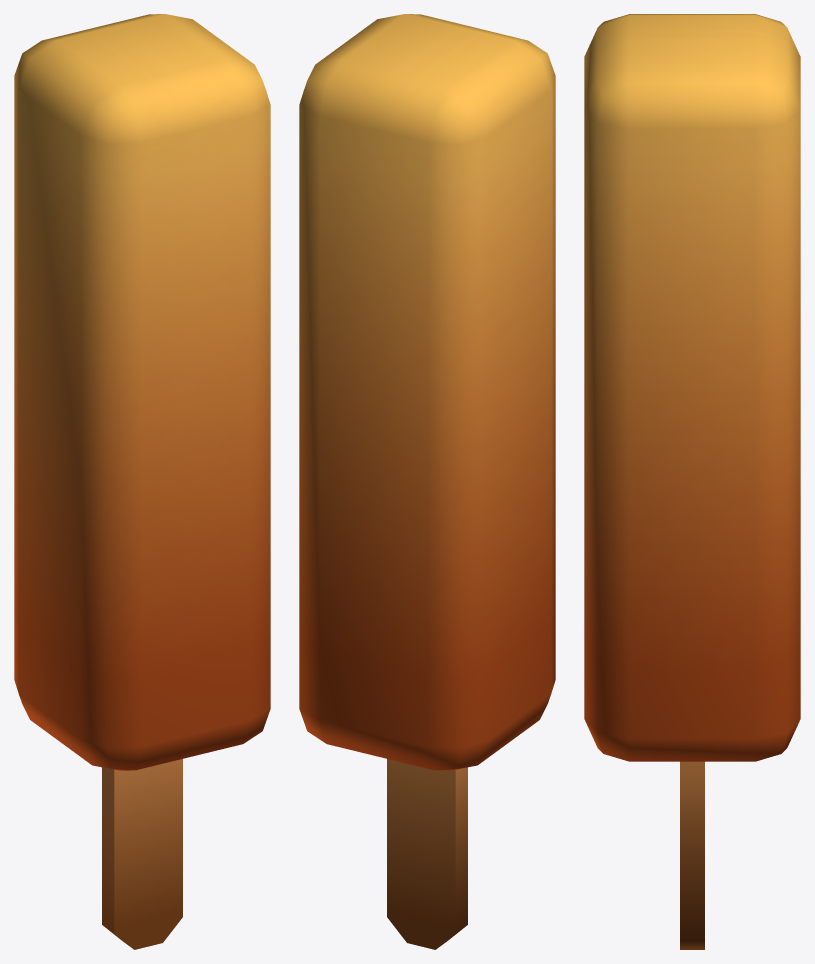
File: m_SquarePopsicle09.fbx
The picture shows the model from 3 angles, left to right: view 1: azimuth 30°, elevation 25°; view 2: azimuth 150°, elevation 25°; view 3: azimuth 270°, elevation 25°; orthographic projection.
Visible parts, largest first — view 1: m_SquarePopsicle09; view 2: m_SquarePopsicle09; view 3: m_SquarePopsicle09.
Boxes of the visible parts, box(x1,y1,x2,y2) form: m_SquarePopsicle09: box(14, 14, 270, 949); m_SquarePopsicle09: box(299, 14, 555, 949); m_SquarePopsicle09: box(584, 14, 800, 949).
Size of the model in its own units: 5 by 23.01 by 5.
